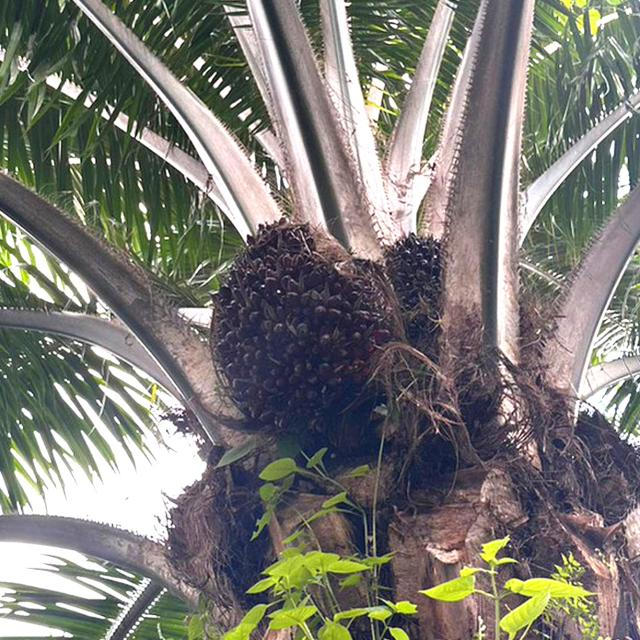unripe: (197, 210, 402, 438)
